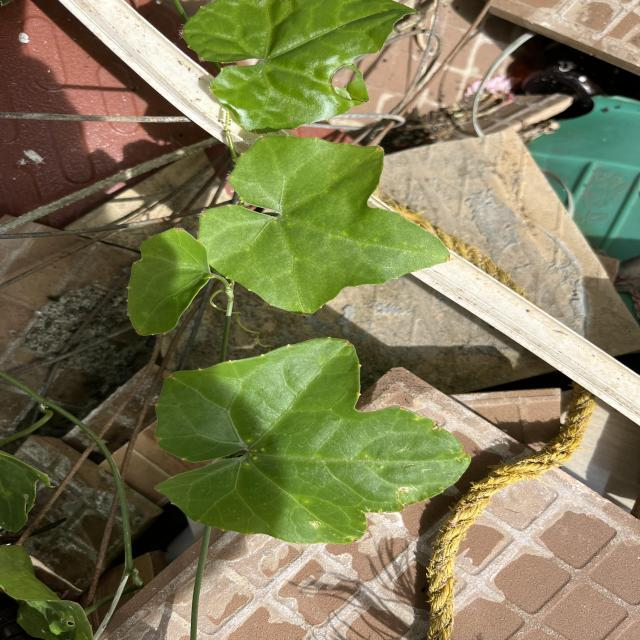Coccinia grandis: (150, 333, 472, 550), (190, 128, 454, 316)
